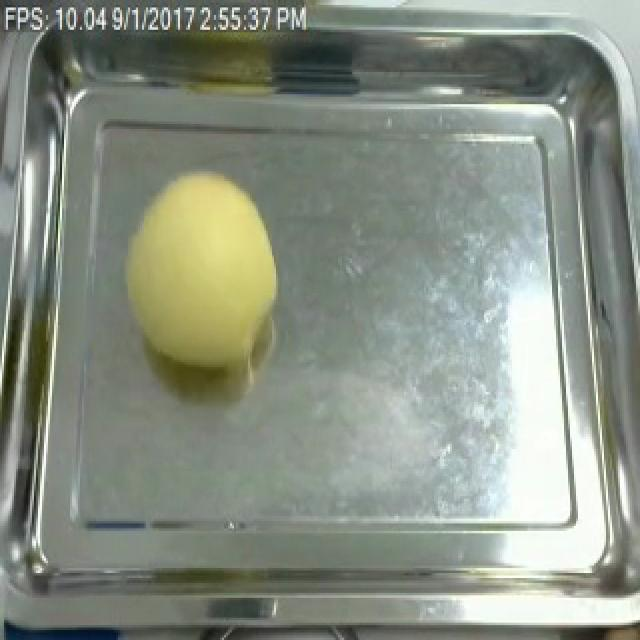Fruit: (114, 161, 288, 377)
